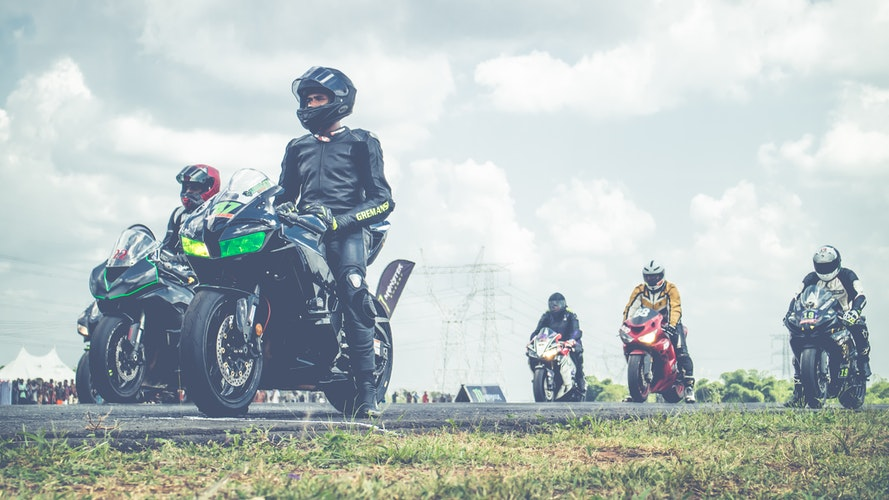helmet: (292, 71, 364, 129), (176, 159, 227, 203), (639, 260, 671, 291), (811, 240, 836, 278)
